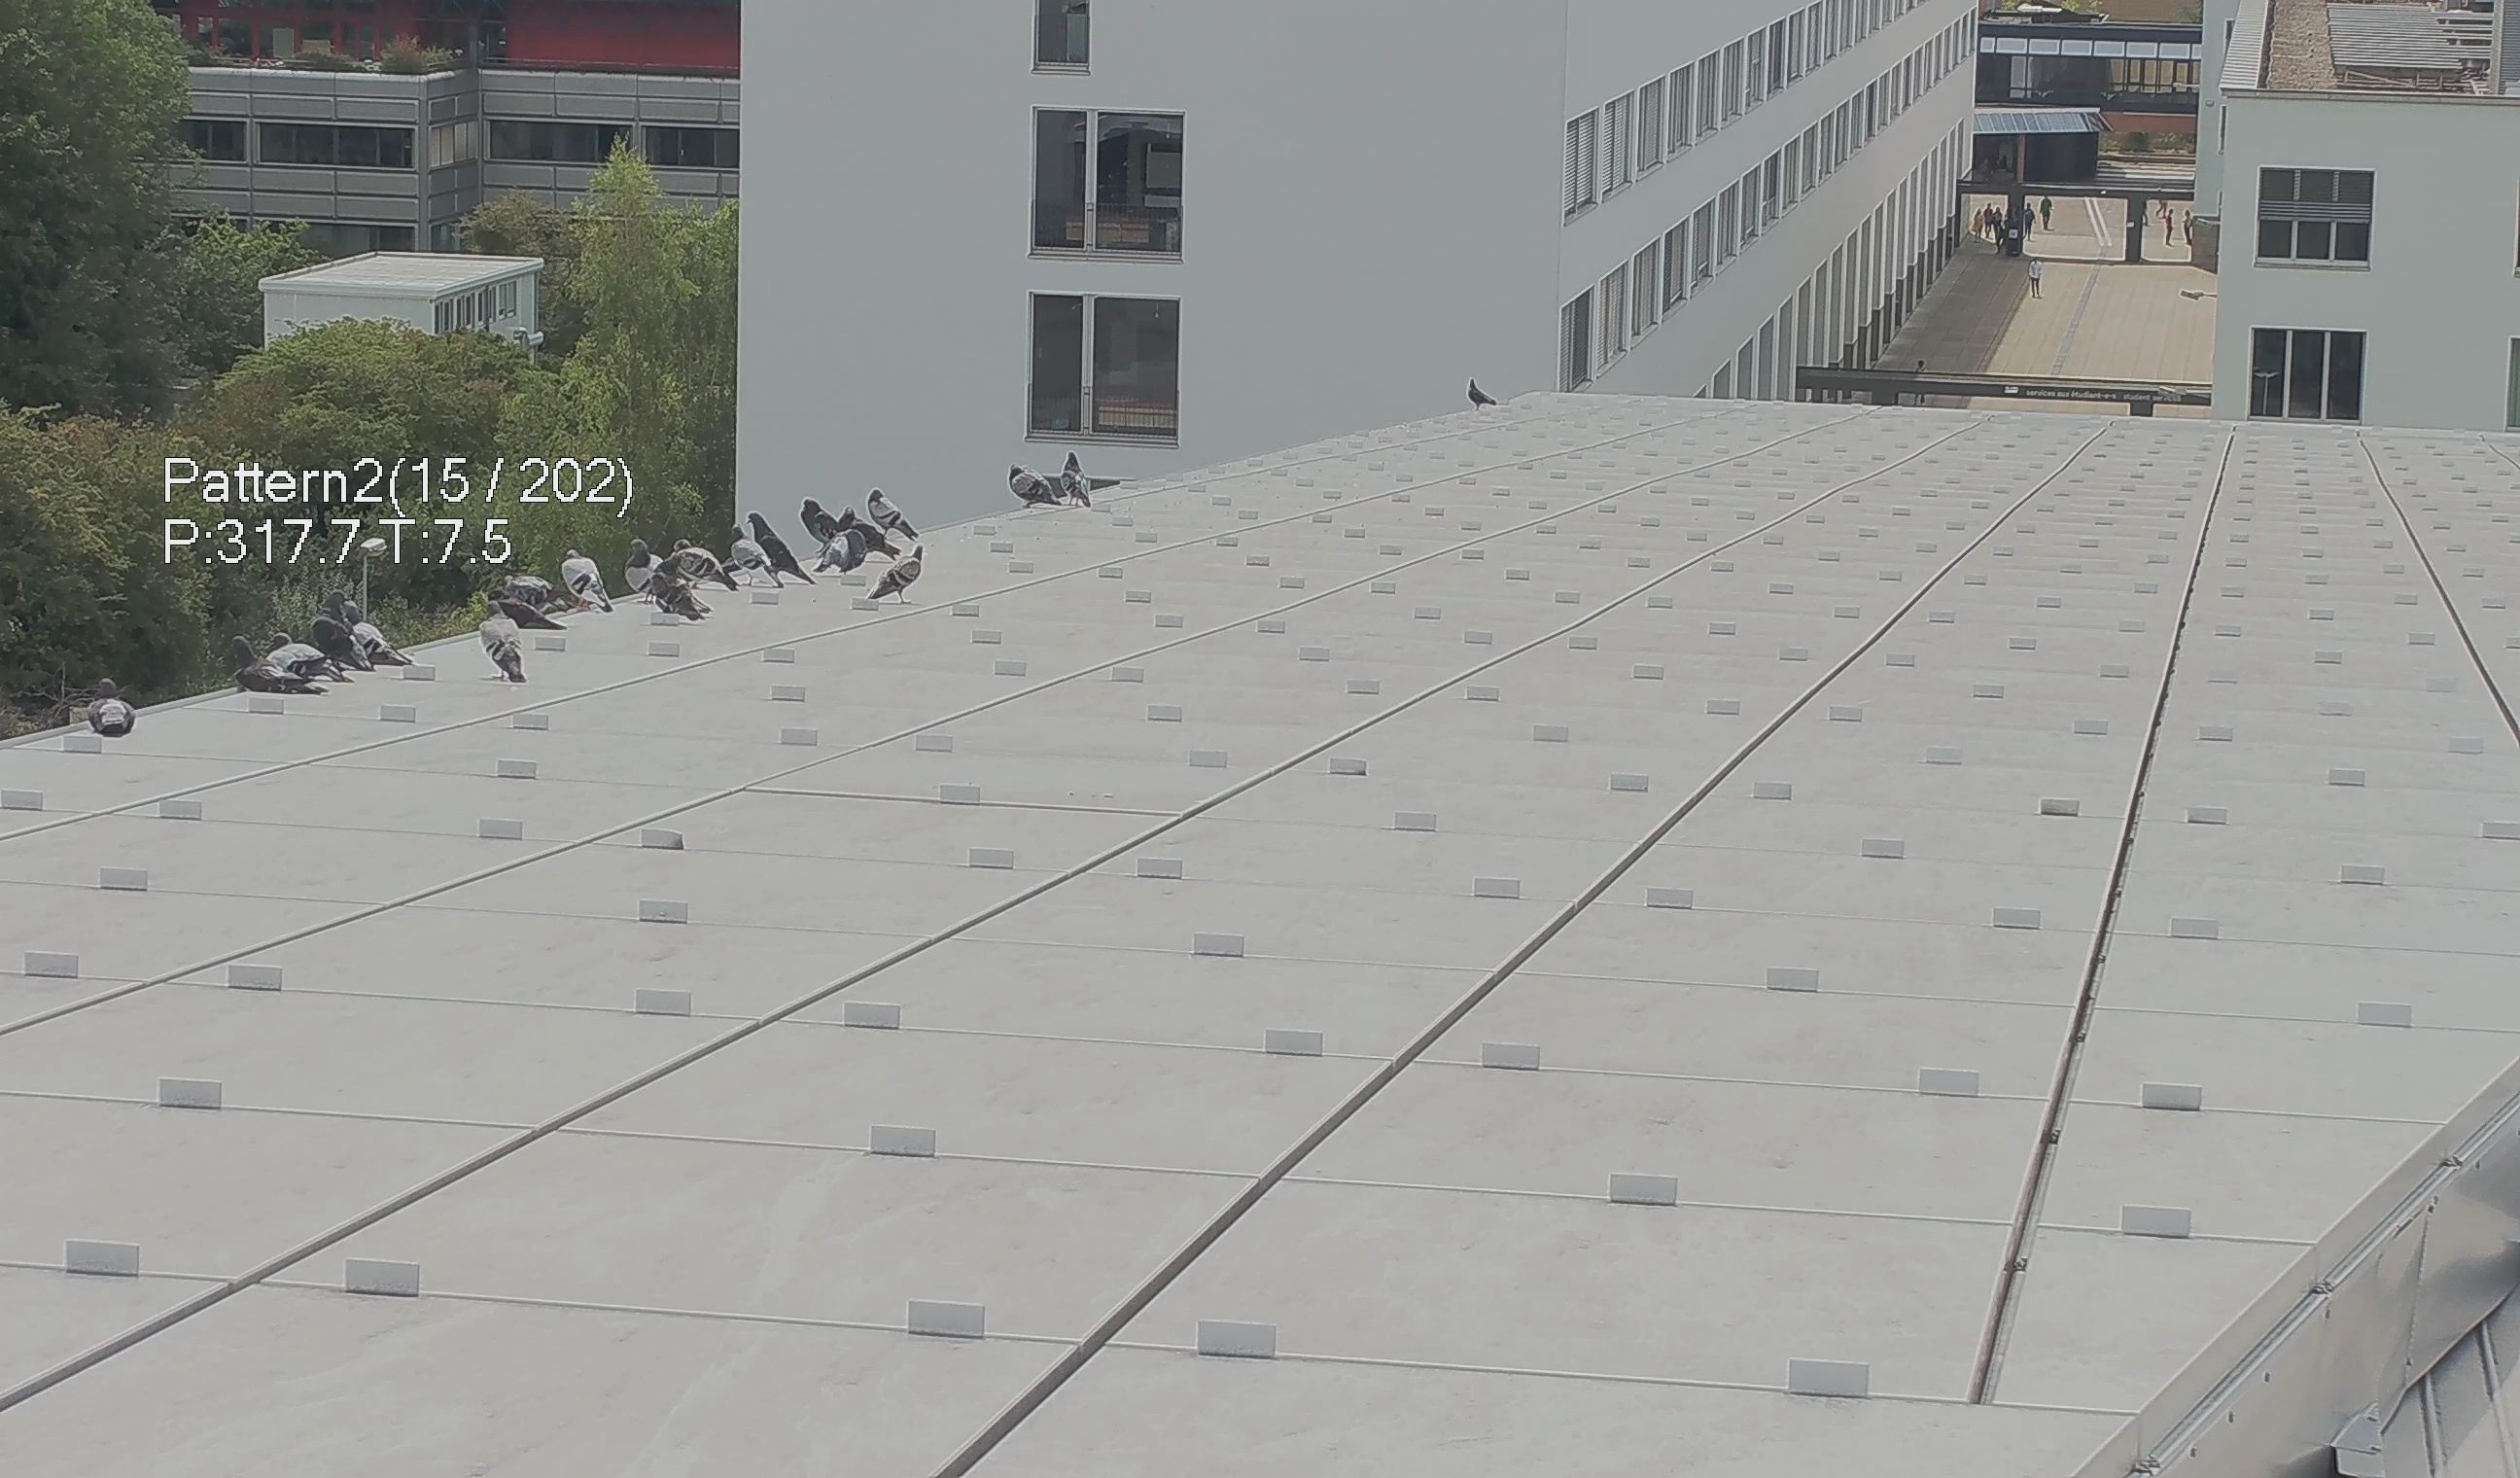Pigeon: (223, 635, 318, 706), (317, 586, 373, 669), (860, 544, 929, 611), (647, 552, 709, 625), (477, 598, 521, 686), (84, 674, 141, 741), (749, 510, 802, 581), (266, 630, 327, 684), (674, 535, 733, 589), (566, 547, 614, 616), (732, 526, 783, 589), (816, 524, 874, 579), (869, 487, 921, 544), (1060, 447, 1099, 519), (503, 568, 561, 614), (1009, 465, 1062, 514), (624, 533, 654, 602), (795, 496, 841, 540), (1461, 375, 1502, 421)
